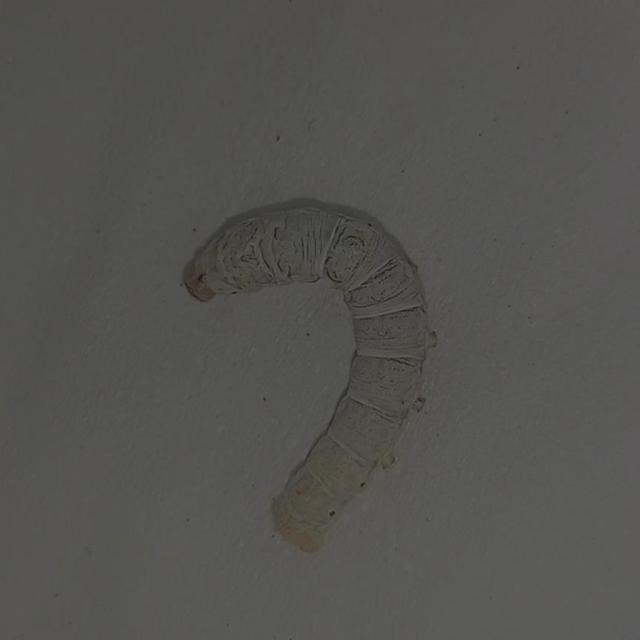Healthy: (177, 193, 446, 559)
